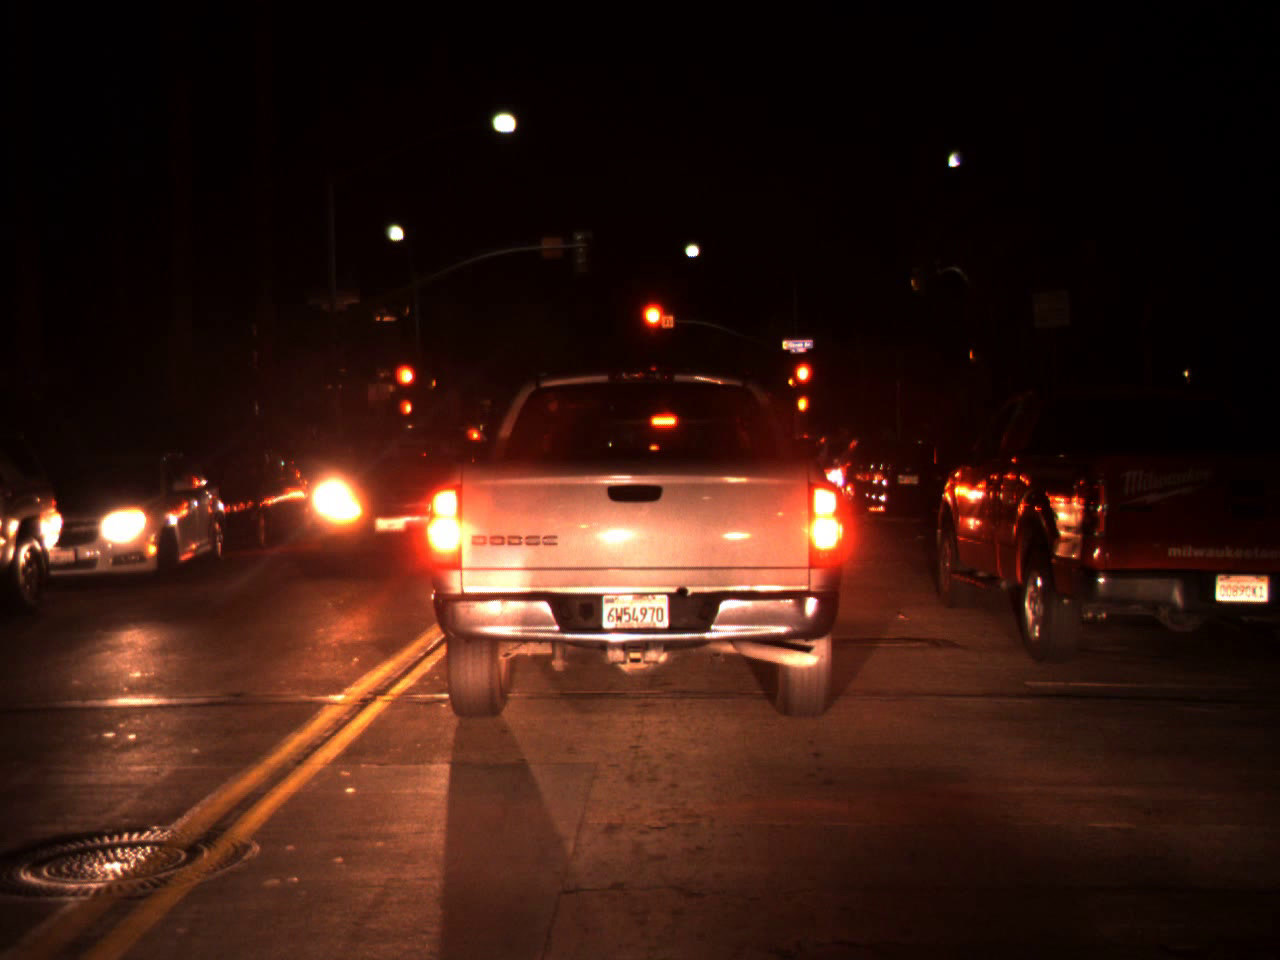stop: (640, 301, 670, 354), (392, 361, 417, 409), (792, 360, 813, 405)
